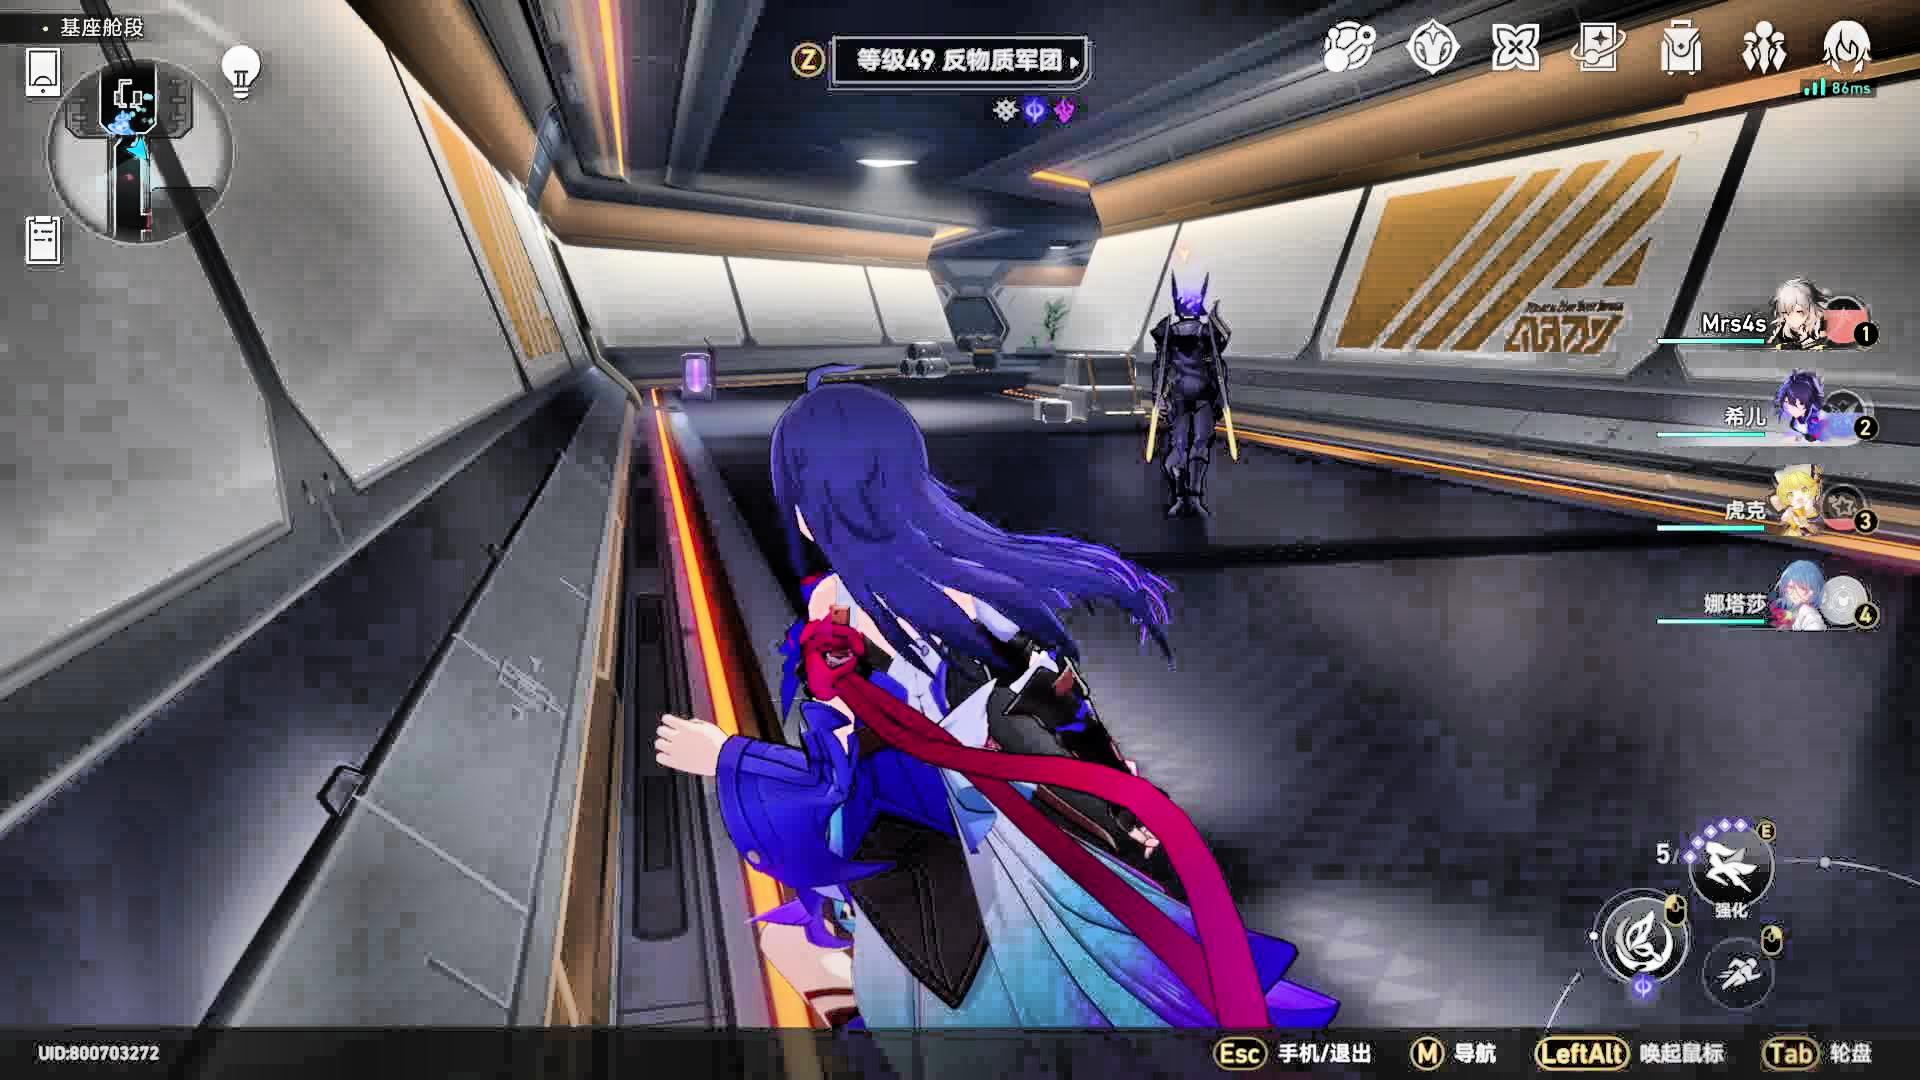Box: (1040, 352, 1139, 422), (899, 339, 949, 381)
Enemy: (1149, 269, 1240, 527)
Self: (655, 365, 1338, 1033)
